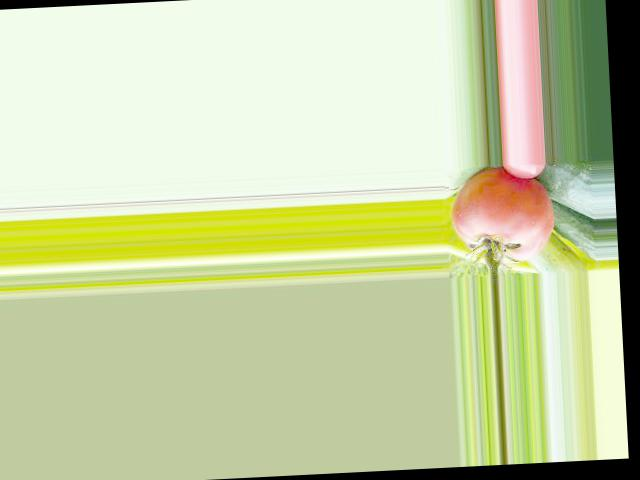tomato: (449, 164, 556, 264)
